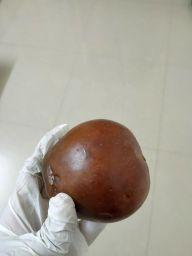Apple Rotten: (29, 123, 167, 229)
